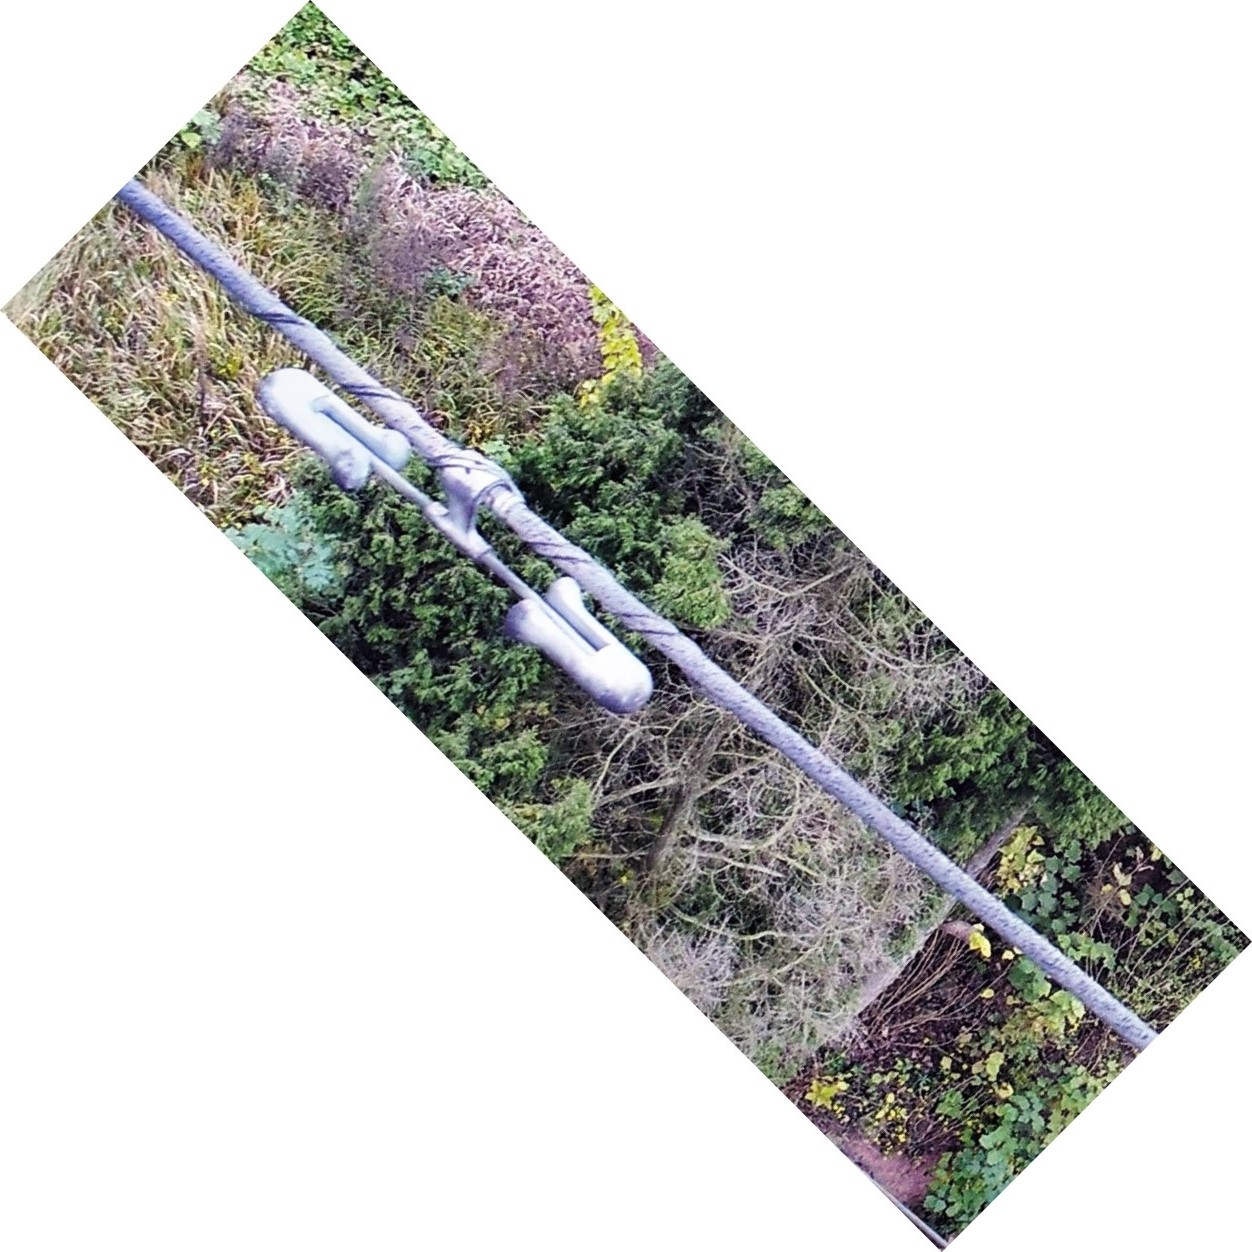Shockproof hammer: (238, 338, 667, 730)
